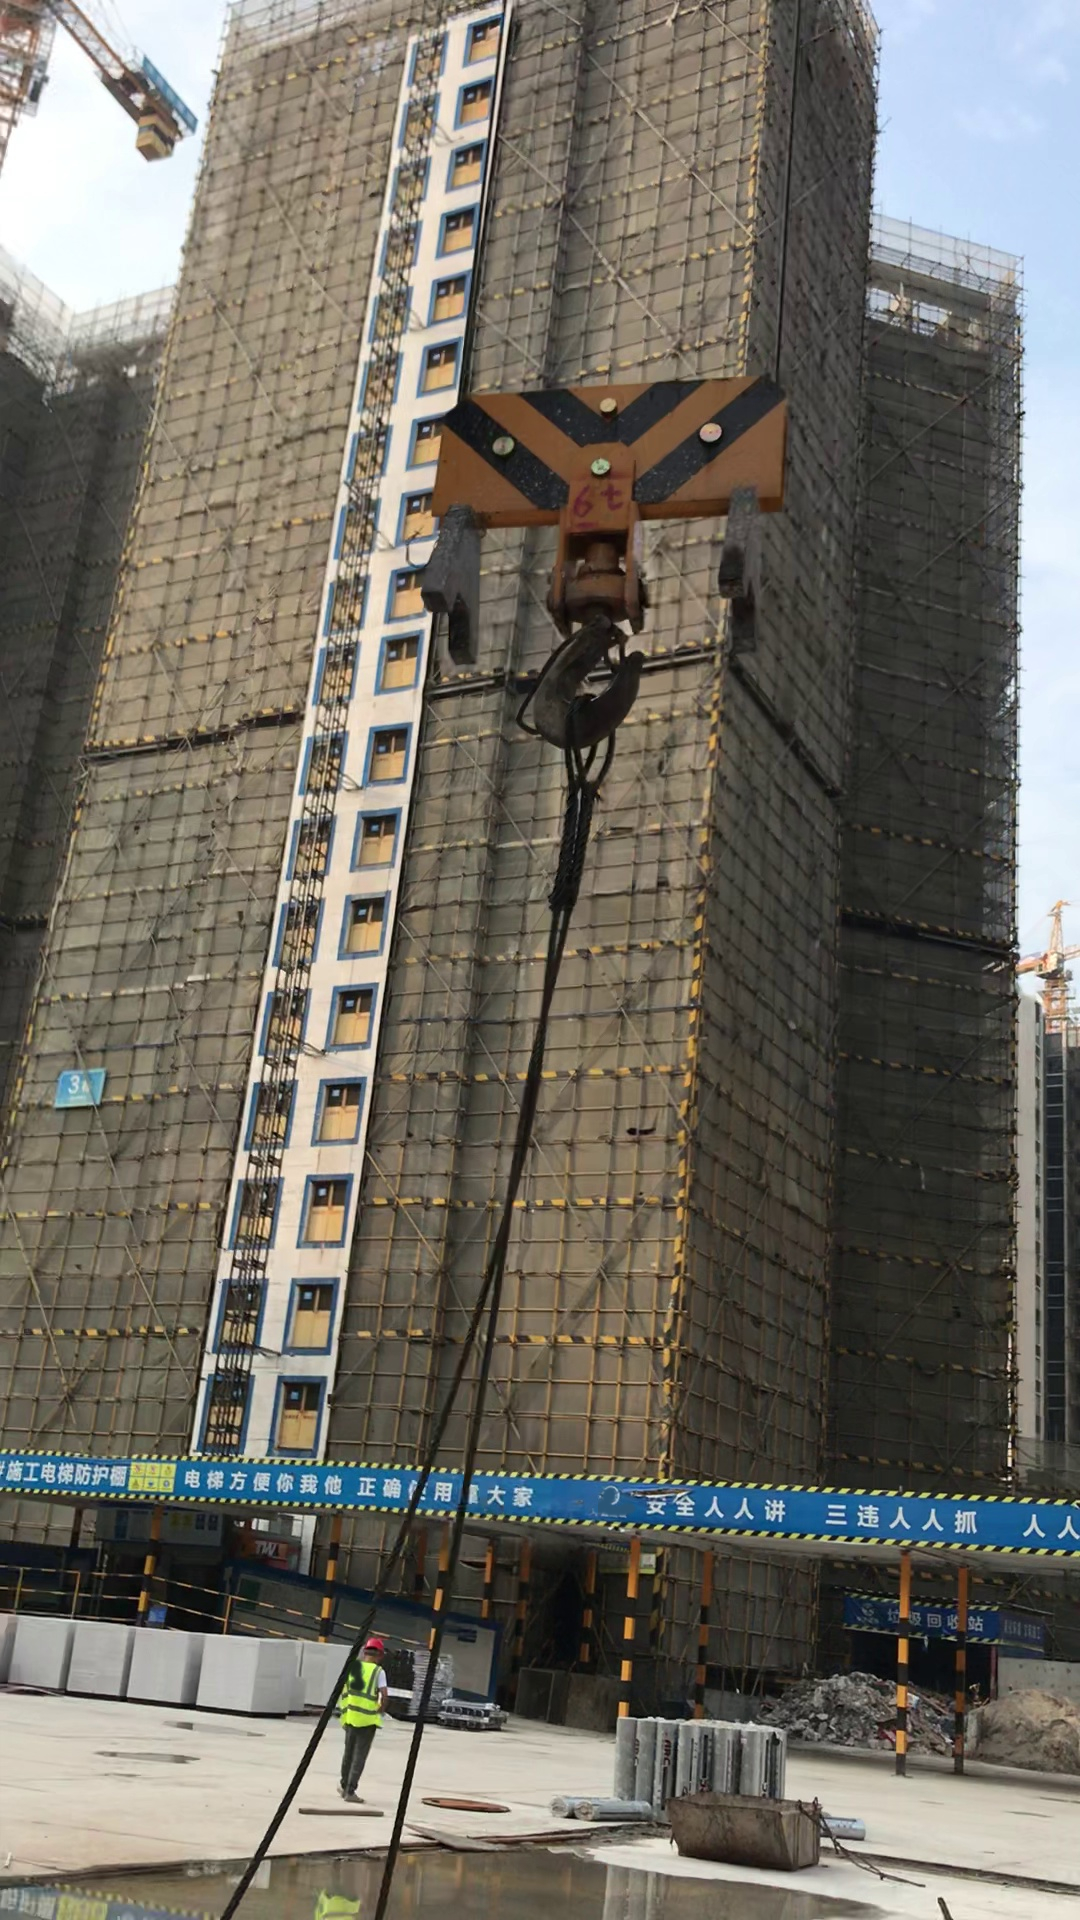brick: (198, 1636, 308, 1715), (127, 1621, 199, 1705), (63, 1612, 132, 1698), (8, 1611, 77, 1691)
helmet: (361, 1634, 388, 1655)
hook: (372, 384, 807, 732)
hopper: (664, 1776, 830, 1870)
person: (330, 1632, 388, 1803)
slogan: (5, 1447, 1080, 1569)
vest: (338, 1662, 383, 1728)
